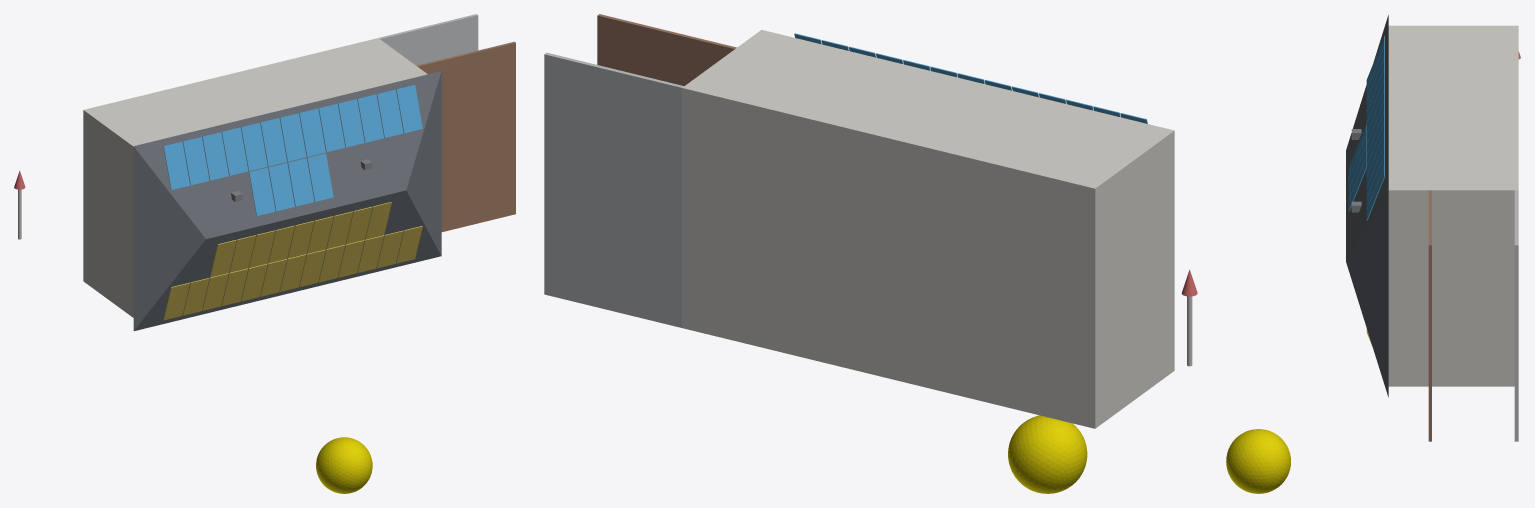
File: generated_12b23aa2a3.glb
The picture shows the model from 3 angles, left to right: view 1: azimuth 30°, elevation 25°; view 2: azimuth 150°, elevation 25°; view 3: azimuth 270°, elevation 25°; orthographic projection. The views are drawn at different scales.
Parts seen in each view (by area): view 1: hip_roof, house_body, front_porch_roof, front_porch_slab, world, solar_panel_24, solar_panel_29, solar_panel_31, solar_panel_27, solar_panel_32, solar_panel_34, solar_panel_38 (+32 smaller); view 2: house_body, front_porch_slab, front_porch_roof, world; view 3: house_body, hip_roof, world, front_porch_slab, front_porch_roof.
Part boxes in pixels (<box>): hip_roof: <box>133,71,441,330</box>; house_body: <box>83,38,427,317</box>; front_porch_roof: <box>416,41,515,231</box>; front_porch_slab: <box>379,14,478,65</box>; world: <box>14,170,372,493</box>; solar_panel_24: <box>202,132,228,180</box>; solar_panel_29: <box>299,108,325,156</box>; solar_panel_31: <box>338,99,364,147</box>; solar_panel_27: <box>260,118,286,166</box>; solar_panel_32: <box>357,94,383,142</box>; solar_panel_34: <box>396,85,422,133</box>; solar_panel_38: <box>307,153,333,201</box>; house_body: <box>682,29,1174,428</box>; front_porch_slab: <box>544,52,683,327</box>; front_porch_roof: <box>597,14,736,85</box>; world: <box>1008,269,1197,493</box>; house_body: <box>1388,25,1518,386</box>; hip_roof: <box>1346,15,1388,397</box>; world: <box>1226,51,1520,493</box>; front_porch_slab: <box>1514,190,1518,441</box>; front_porch_roof: <box>1428,190,1431,441</box>.
Size of the model in its own units: 28.3 by 19.9 by 13.6.
